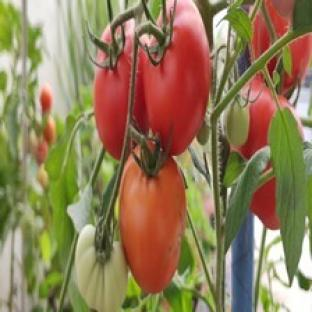Tomato: (120, 155, 186, 293), (94, 20, 133, 158), (76, 225, 128, 311), (233, 80, 277, 158), (282, 35, 311, 94), (223, 99, 249, 146), (39, 83, 52, 114), (35, 138, 48, 164), (44, 116, 55, 144), (37, 165, 48, 189)
